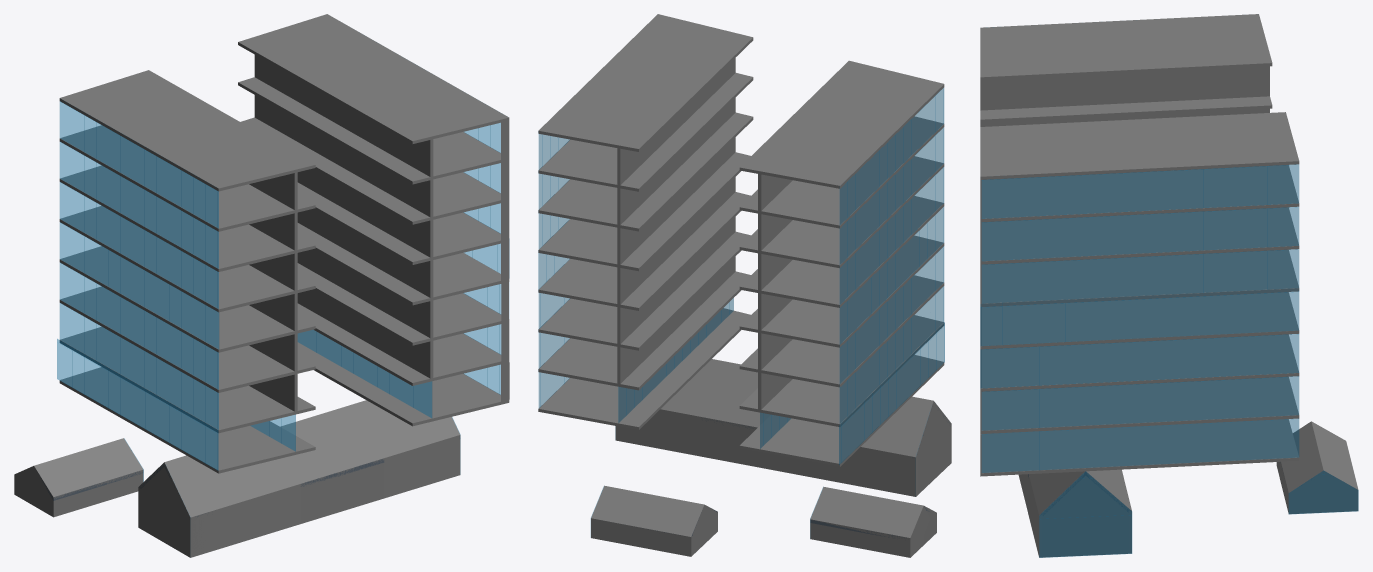
The model's file is agri.obj.
3 renders of one model, left to right at view 1: azimuth 30°, elevation 25°; view 2: azimuth 150°, elevation 25°; view 3: azimuth 270°, elevation 25°, orthographic. The views are drawn at different scales.
Size of the model in its own units: 39.04 by 37 by 32.35.
